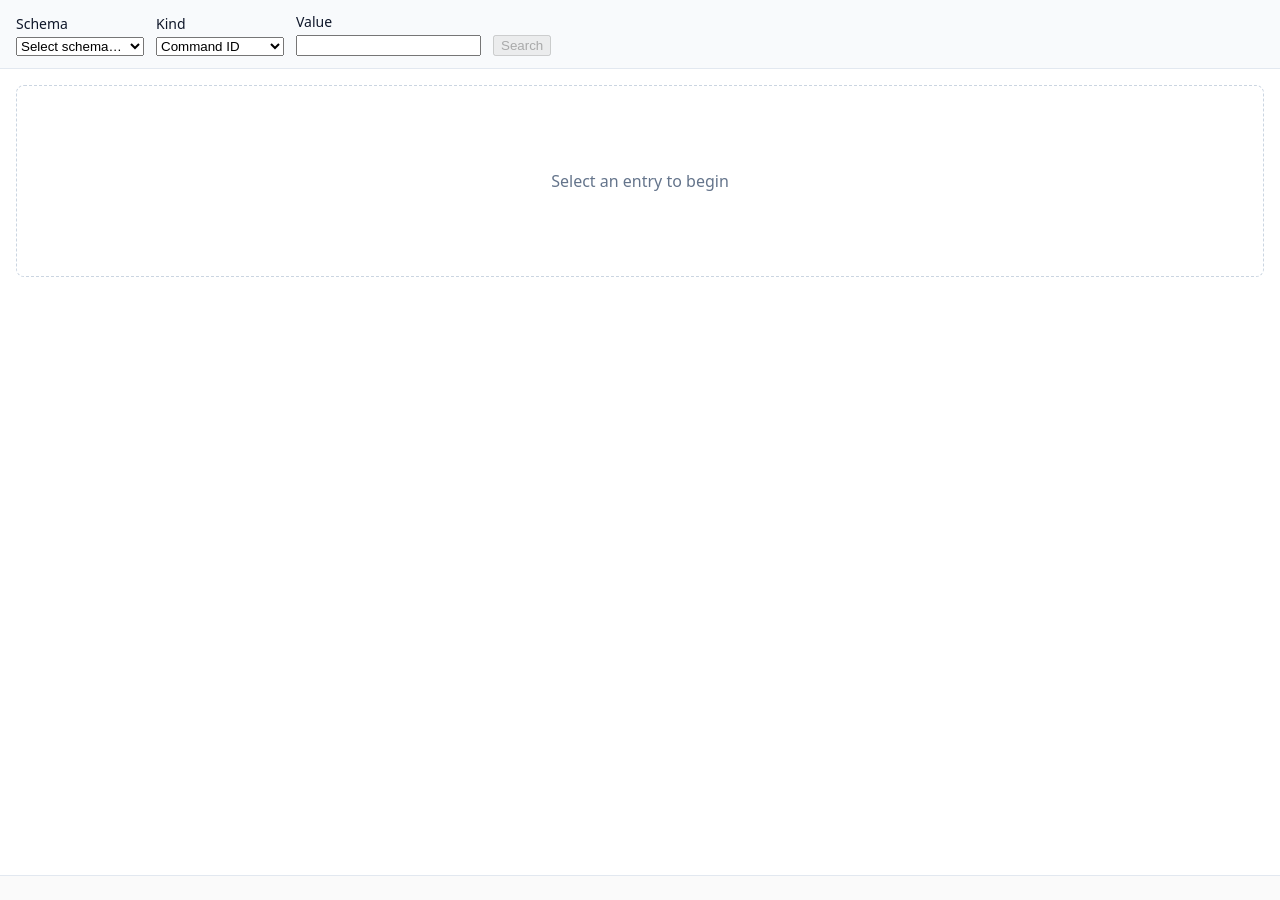
Scenario: App integration › found puts root seed on canvas
Select "S" in the dropdown with test id "schema-select" at (80, 46), box [16, 37, 144, 56]
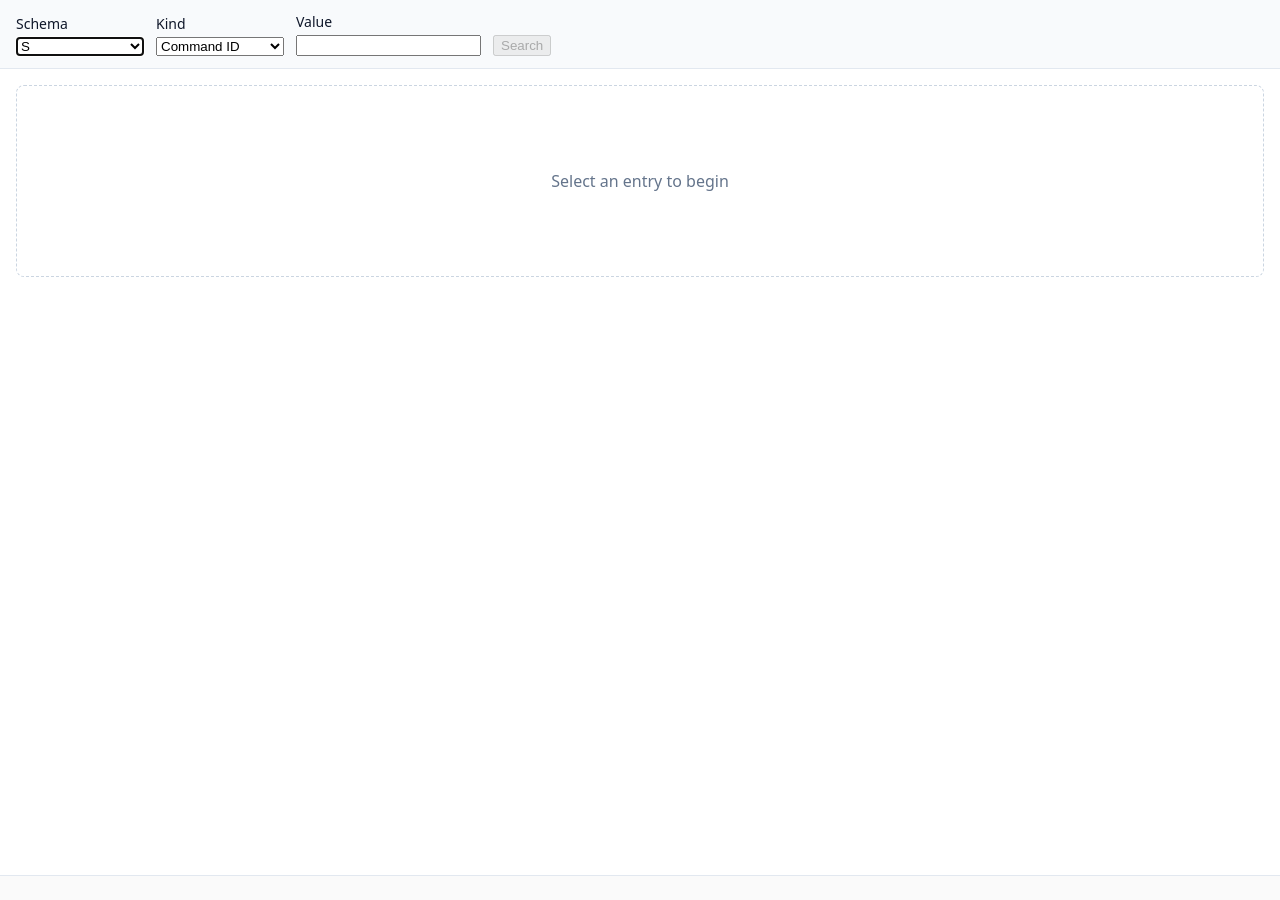
Type "Cmd1" into the field with test id "search-value" at (388, 46), box [296, 35, 481, 56]
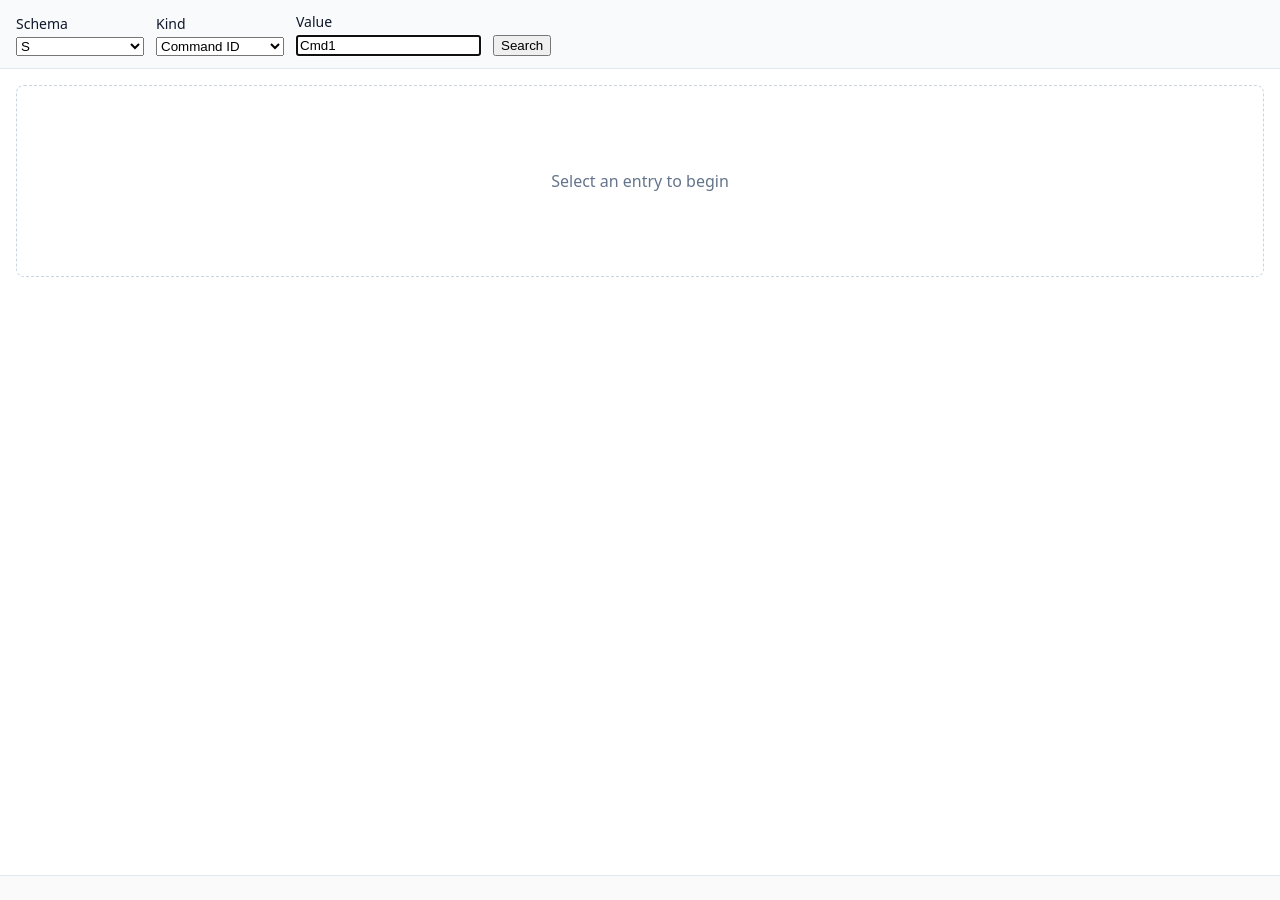
Click the button "Search" at (522, 46), box [493, 35, 551, 56]
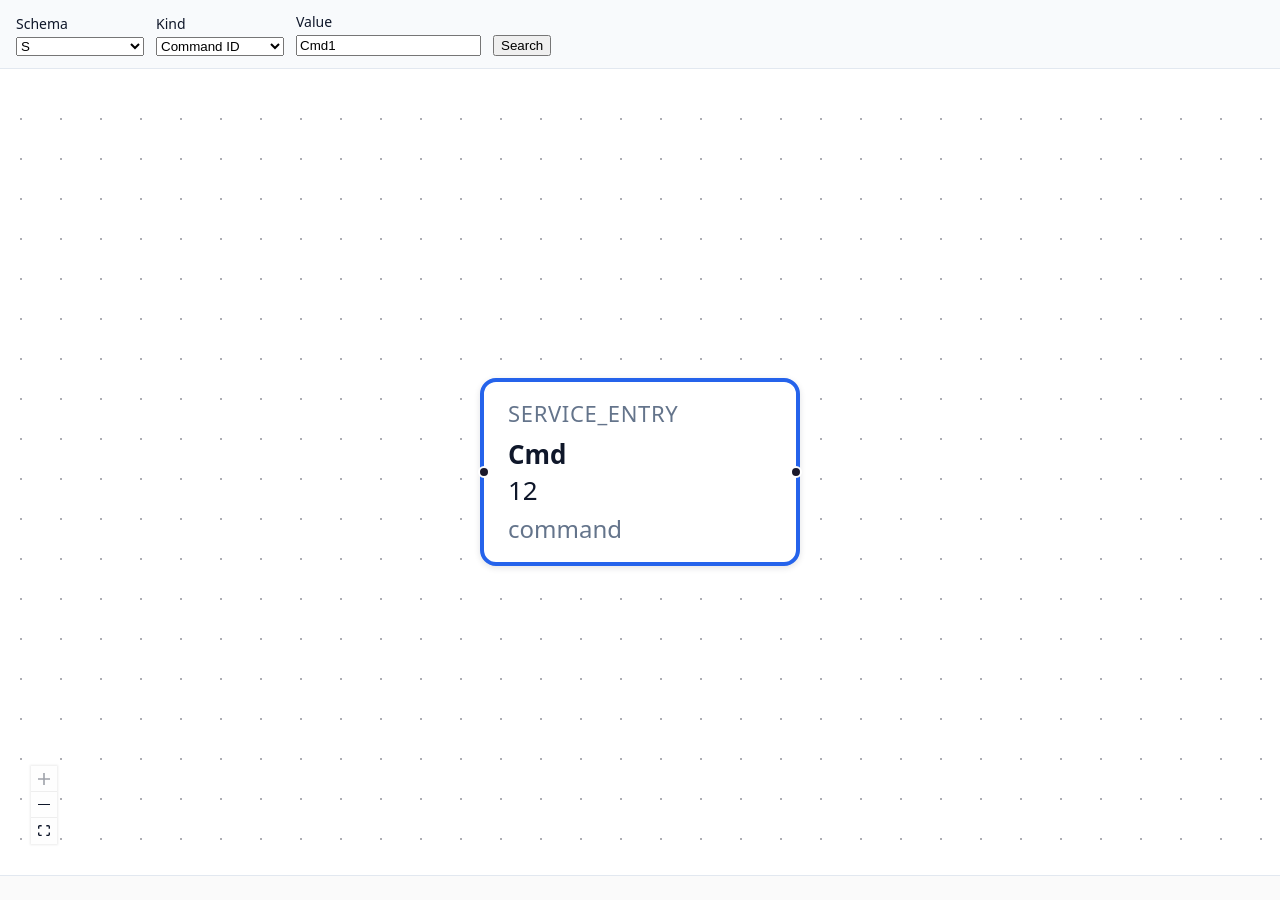
Now the element with test id "graph-canvas" is shown
Now the text with test id "seed-type" reads "service_entry", box [508, 398, 678, 428]
Now the text with test id "seed-id" reads "12", box [508, 472, 538, 508]
